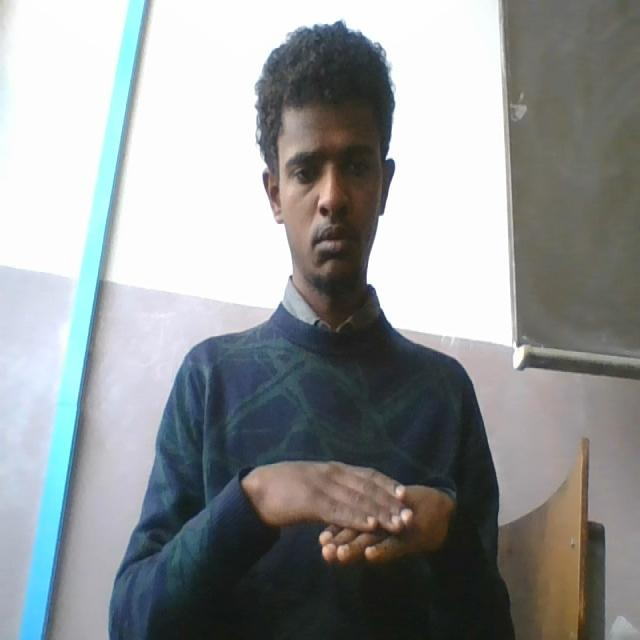lay: (267, 457, 450, 572)
